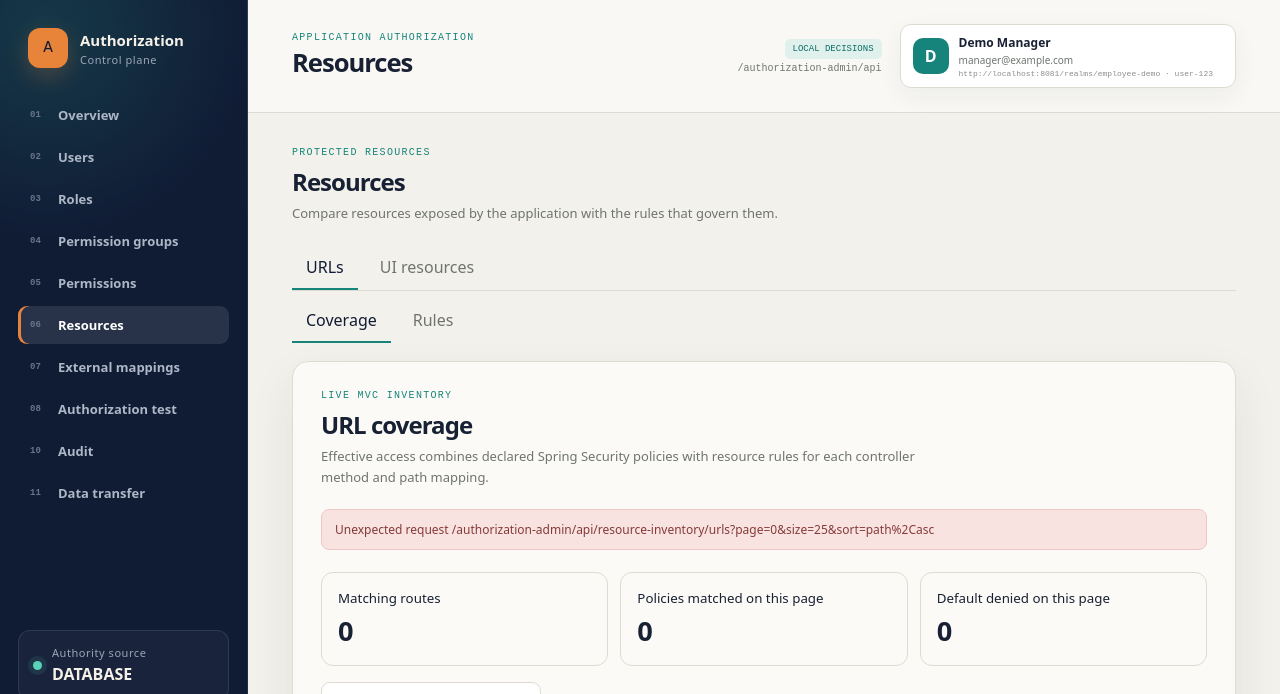
Scenario: Authorization admin UI › shows the resource type for resource rules
This screenshot has width=1280, height=694.
Click the button "Rules" at (433, 321), box [399,299,468,343]
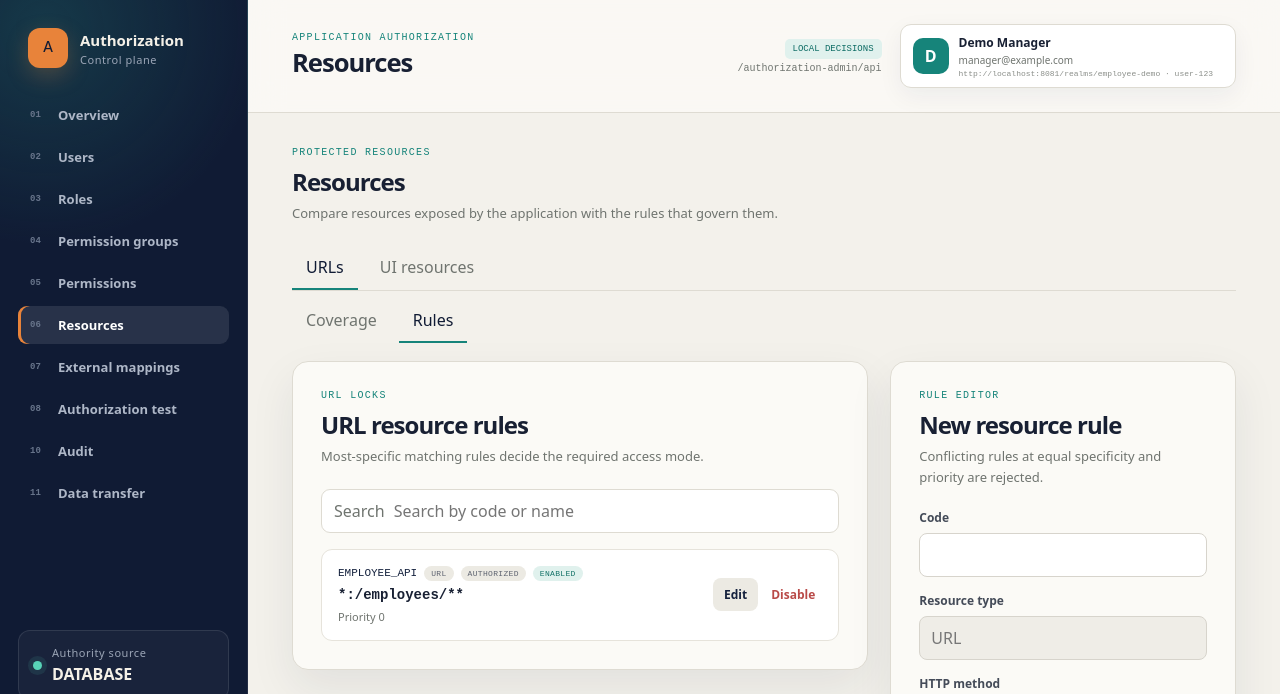
Now the text "EMPLOYEE_API" is shown, box [338,567,417,579]
Now the text "URL" is shown, box [424,566,454,581]
